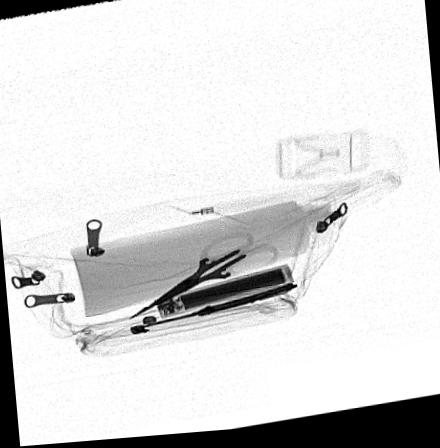Knife: (141, 288, 297, 332)
Powerbank: (148, 269, 292, 326)
Scissors: (125, 230, 277, 324)
